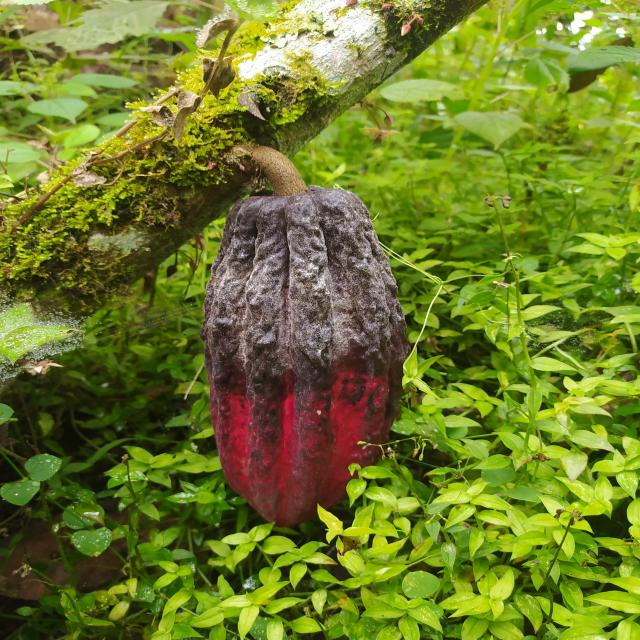Fitoftora: (202, 185, 406, 526)
